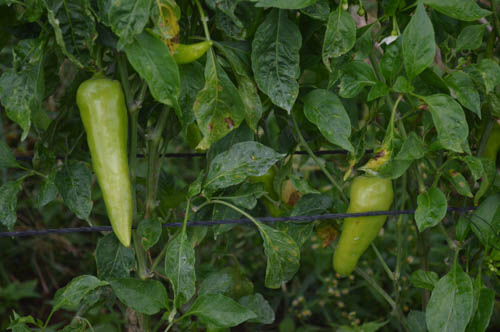ChiliPepper: (70, 78, 138, 248), (330, 162, 396, 283), (156, 30, 216, 66)
